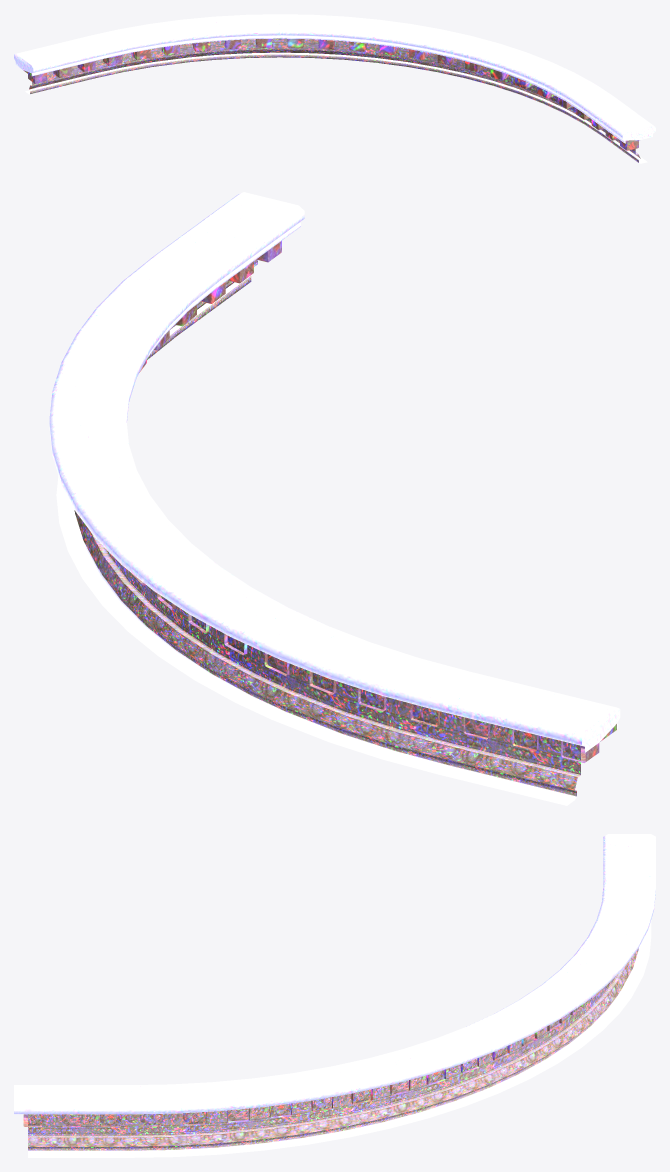
The model's file is trim_crown_corner_small_inverse_SM.fbx.
3 renders of one model, top to bottom at view 1: azimuth 30°, elevation 25°; view 2: azimuth 150°, elevation 25°; view 3: azimuth 270°, elevation 25°, orthographic. The views are drawn at different scales.
Parts seen in each view (by area): view 1: trim_crown_corner_small_inverse_SM_LOD0; view 2: trim_crown_corner_small_inverse_SM_LOD0; view 3: trim_crown_corner_small_inverse_SM_LOD0.
Boxes of the visible parts, <box> form: trim_crown_corner_small_inverse_SM_LOD0: <box>14,14,655,163</box>; trim_crown_corner_small_inverse_SM_LOD0: <box>49,192,620,805</box>; trim_crown_corner_small_inverse_SM_LOD0: <box>14,834,655,1157</box>.
Size of the model in its own units: 1068 by 1068 by 100.
Materials: 3 (2 with a texture image).
